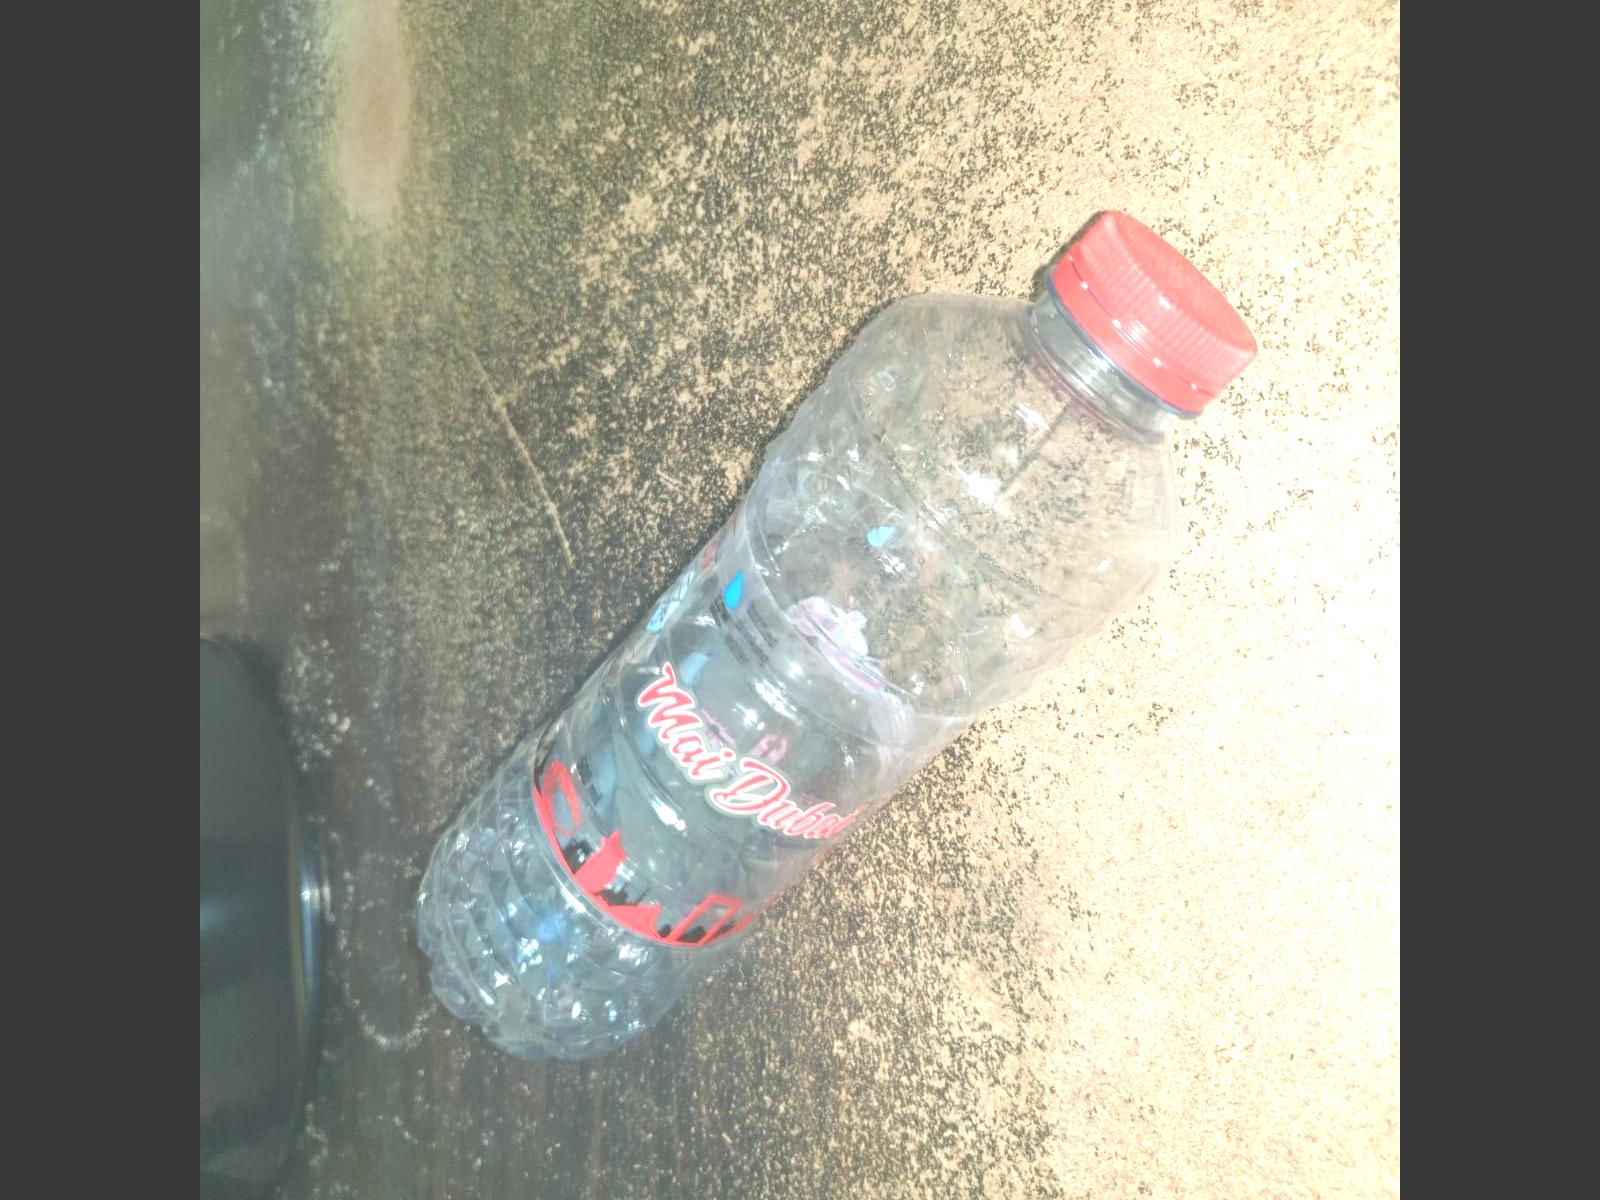bottle: (383, 200, 1261, 1082)
